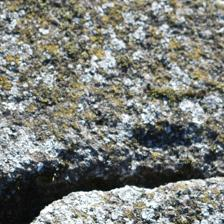Crack: (9, 79, 209, 143)
